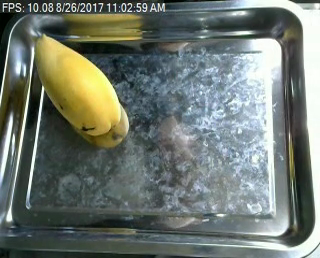Mango: (33, 30, 126, 141)
